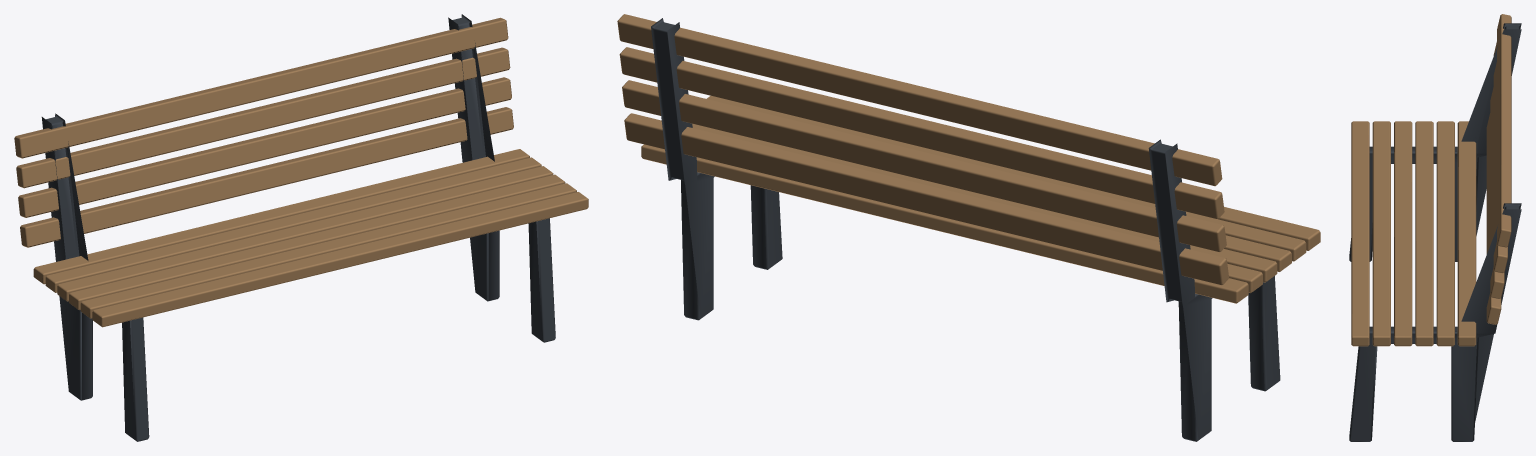
Rendered from bench.glb.
3 views of the same model, side by side, from view 1: azimuth 30°, elevation 25°; view 2: azimuth 150°, elevation 25°; view 3: azimuth 270°, elevation 25° (orthographic). The views are drawn at different scales.
Visible parts, largest first — view 1: bench; view 2: bench; view 3: bench.
Boxes of the visible parts, x1,y1,x2,y2 form: bench: (14, 14, 588, 441); bench: (617, 14, 1320, 441); bench: (1349, 14, 1521, 441).
Size of the model in its own units: 1.8 by 0.9061 by 0.6067.
Materials: 1 (1 with a texture image).
